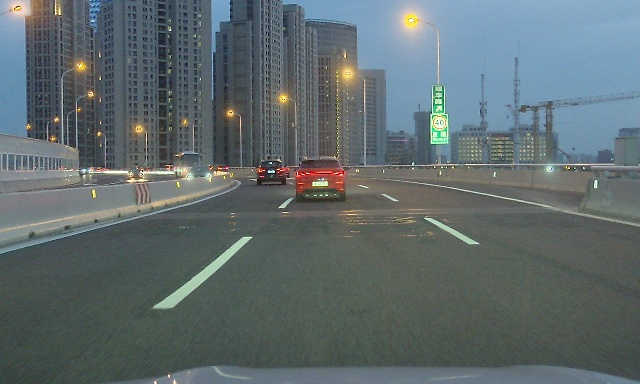bus: (174, 152, 202, 179)
car: (294, 157, 349, 203), (256, 160, 286, 186), (187, 167, 211, 186), (129, 166, 143, 180), (212, 164, 229, 174)
